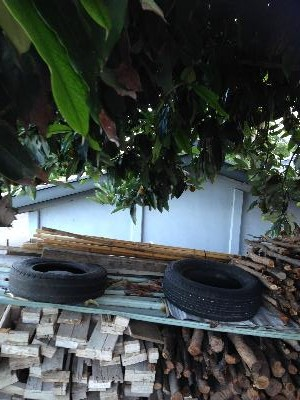tire: (160, 258, 263, 322), (8, 256, 106, 305)
